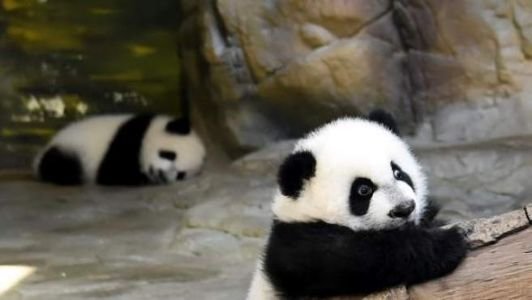bear: (256, 112, 473, 297), (31, 105, 212, 193)
